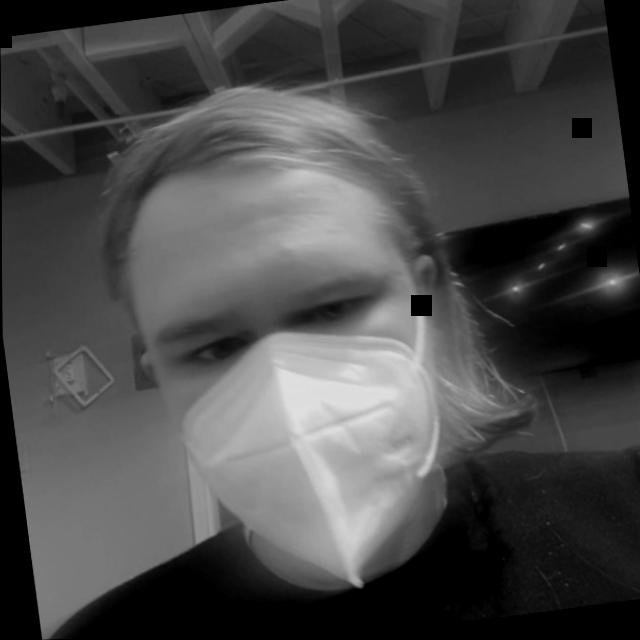Mask: (102, 36, 567, 617)
